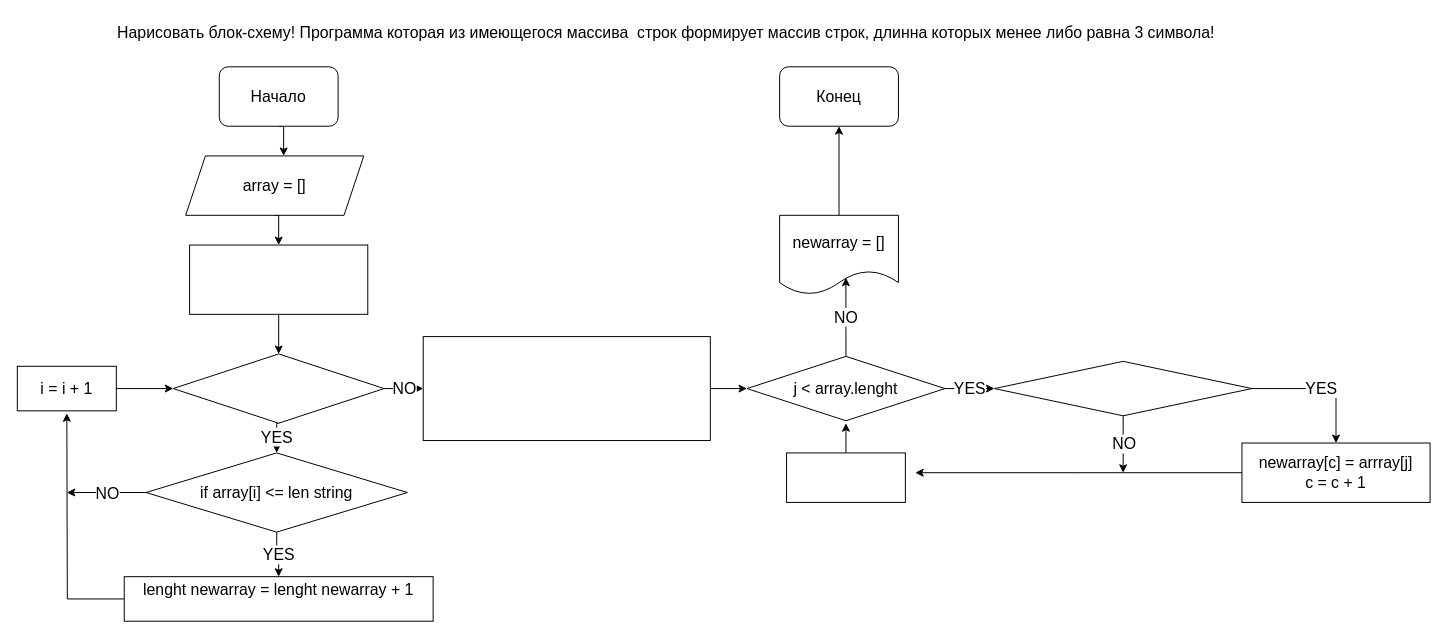
The diagram is 1447 pixels wide and 639 high, and some of its shapes have lost their labels. Here are the shapes that lost their labels. From the top down, the box of each, then its label:
(189, 244, 368, 314): lenght newarray = 0 len string = 3 i = 0
(172, 353, 384, 423): i < array.lenght
(422, 336, 710, 441): j = 0 newarray = new array[lenght newarray] c = 0
(993, 360, 1252, 416): array[j] <= len string
(786, 452, 905, 502): j = j + 1
